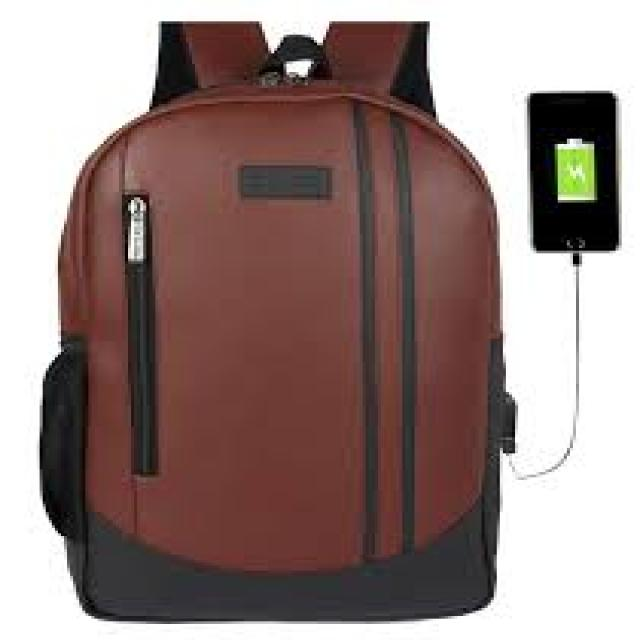backpack: (38, 17, 519, 622)
